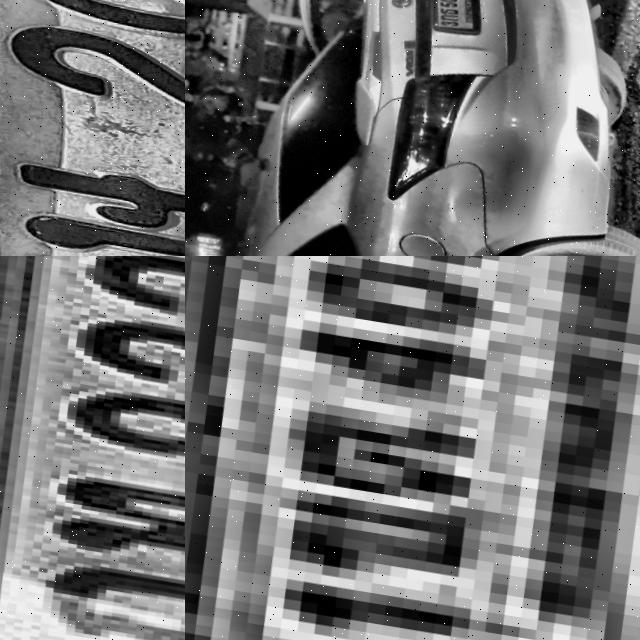license-plate: (185, 256, 640, 640), (0, 256, 185, 640), (0, 0, 185, 256), (417, 0, 482, 38)
